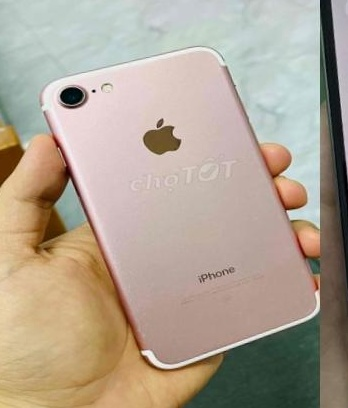scratch: (133, 321, 153, 344), (302, 299, 318, 313), (227, 304, 245, 316), (298, 266, 311, 277), (166, 292, 179, 301)
